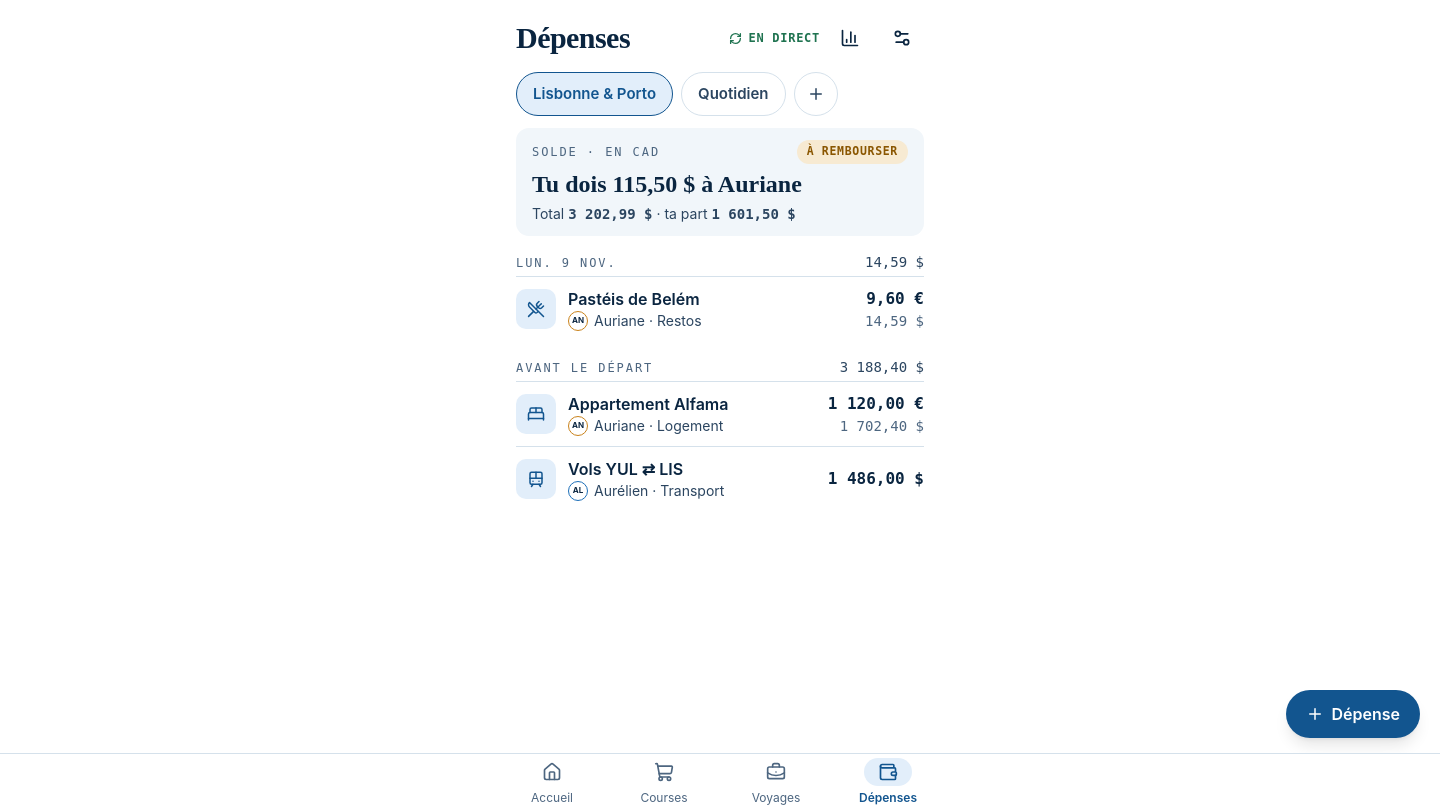
Test: le carnet › crée un carnet depuis la pastille « + »
Expected: the heading "Dépenses" is shown, [516,21,630,54]
Click the button named "Nouveau carnet": click(816, 94) [794,72,838,116]
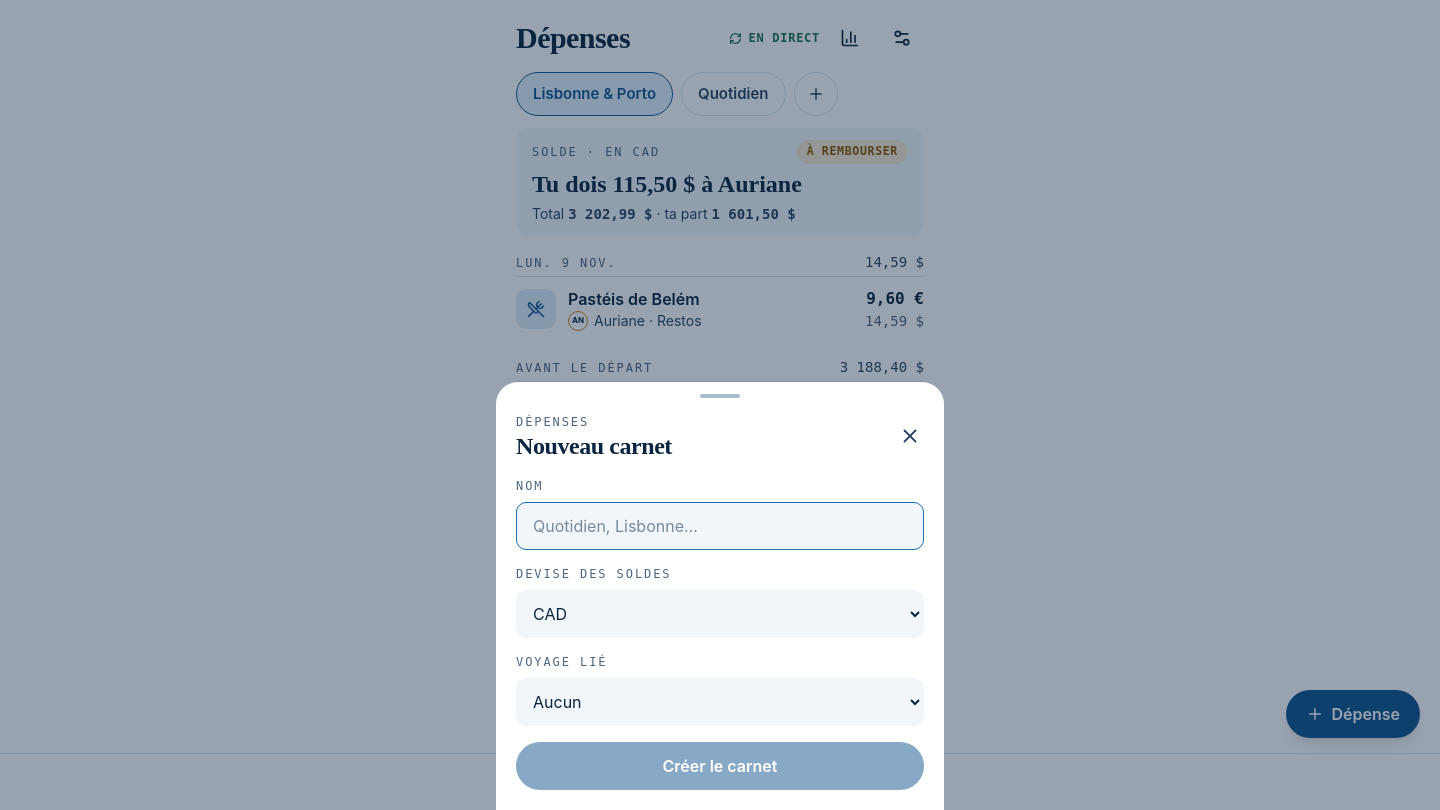
In the field labelled "Nom": (720, 526) [516,502,924,550], type "Chalet"
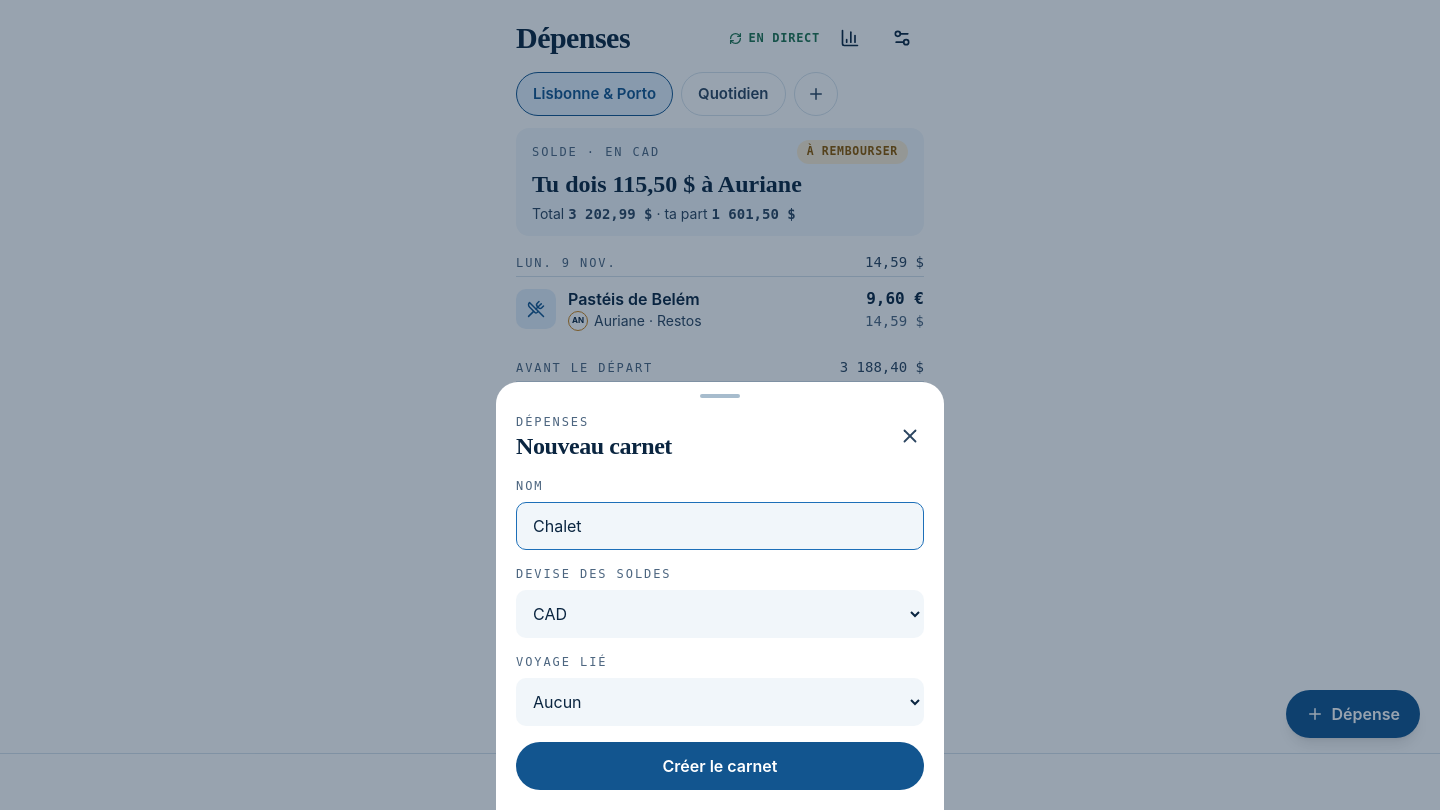
Click the button "Créer le carnet": click(720, 766) [516,742,924,790]
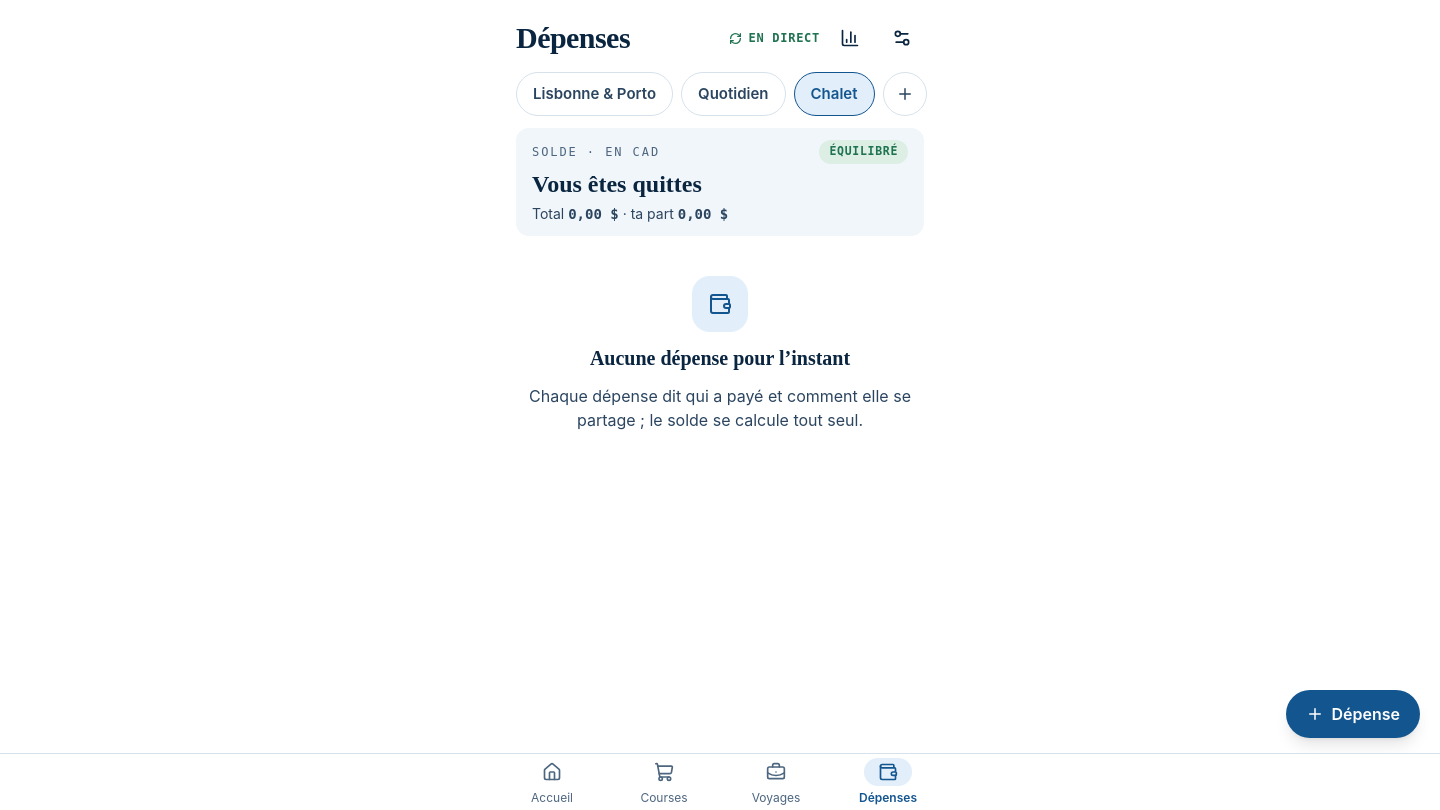
Expected: the heading "Aucune dépense pour l’instant" is shown, [590,344,850,372]
